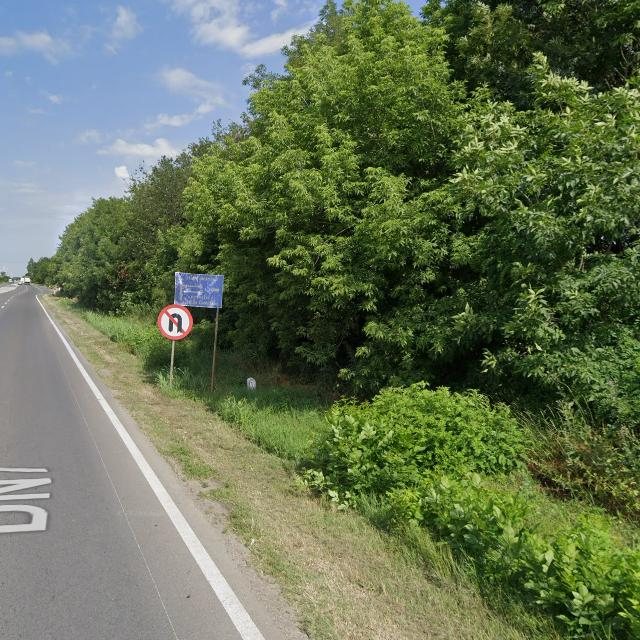forb_u_turn: (158, 304, 193, 340)
